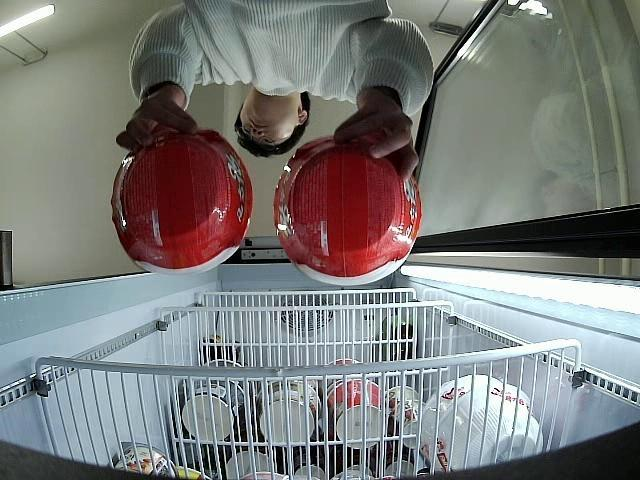10_wangTtukkeong: (276, 136, 421, 285), (111, 128, 252, 272)
